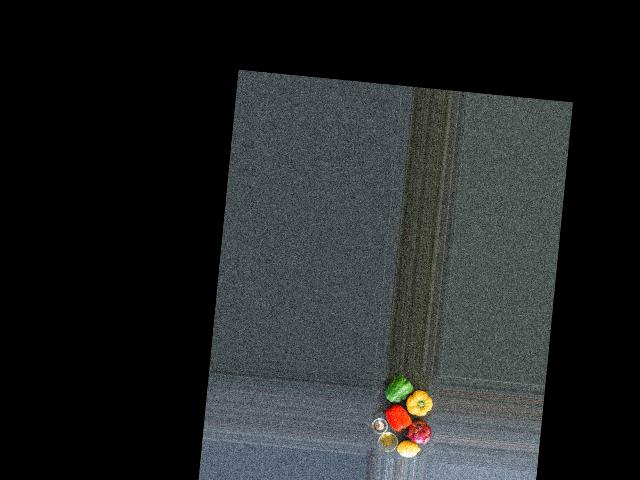bell_pepper: (382, 403, 414, 432)
